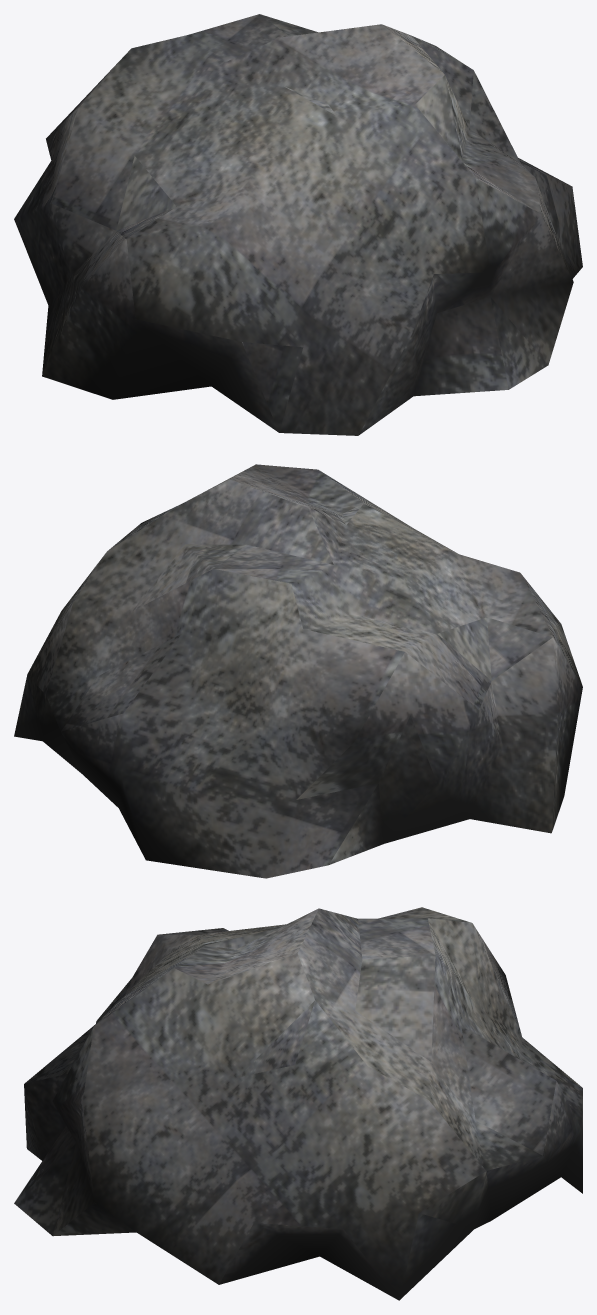
Rendered from big_rock_0.fbx.
The picture shows the model from 3 angles, top to bottom: view 1: azimuth 30°, elevation 25°; view 2: azimuth 150°, elevation 25°; view 3: azimuth 270°, elevation 25°; orthographic projection.
Parts seen in each view (by area): view 1: big_rock_0; view 2: big_rock_0; view 3: big_rock_0.
Boxes of the visible parts, <box> form: big_rock_0: <box>14,14,582,435</box>; big_rock_0: <box>14,464,582,878</box>; big_rock_0: <box>14,907,582,1300</box>.
Size of the model in its own units: 0.6277 by 0.3361 by 0.6386.
1 material, 1 textured.
